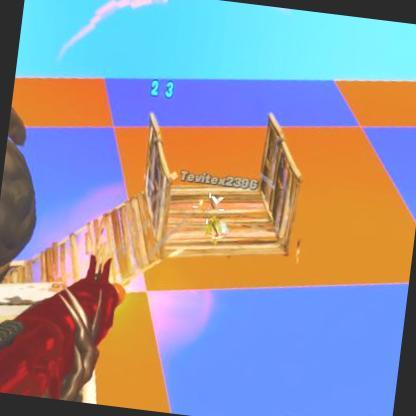person: (207, 214, 222, 242)
